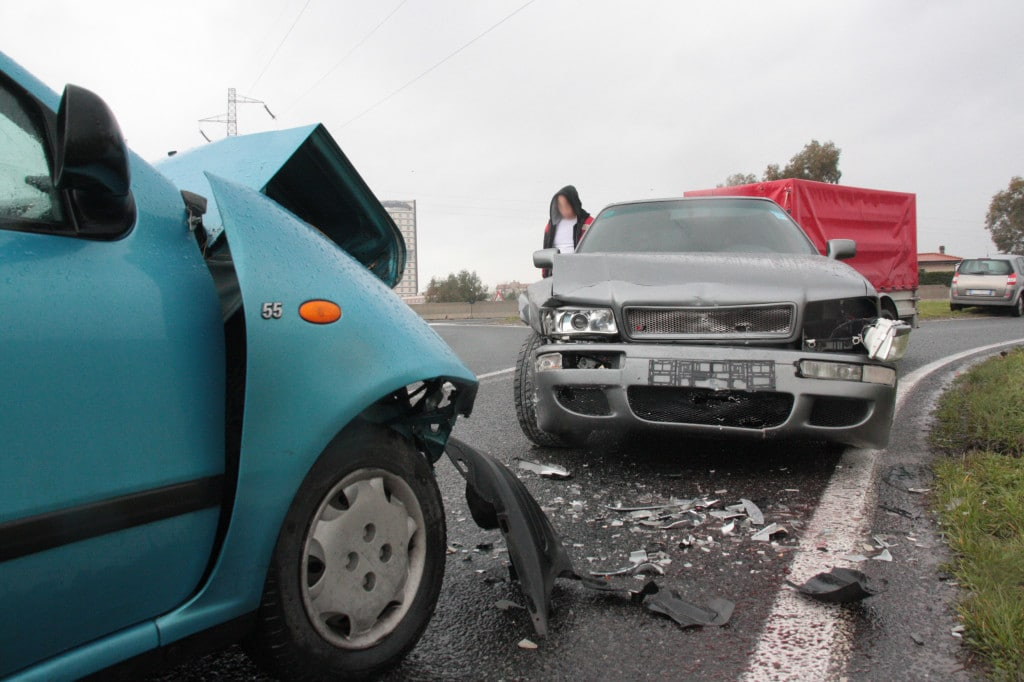accident: (5, 62, 905, 644)
